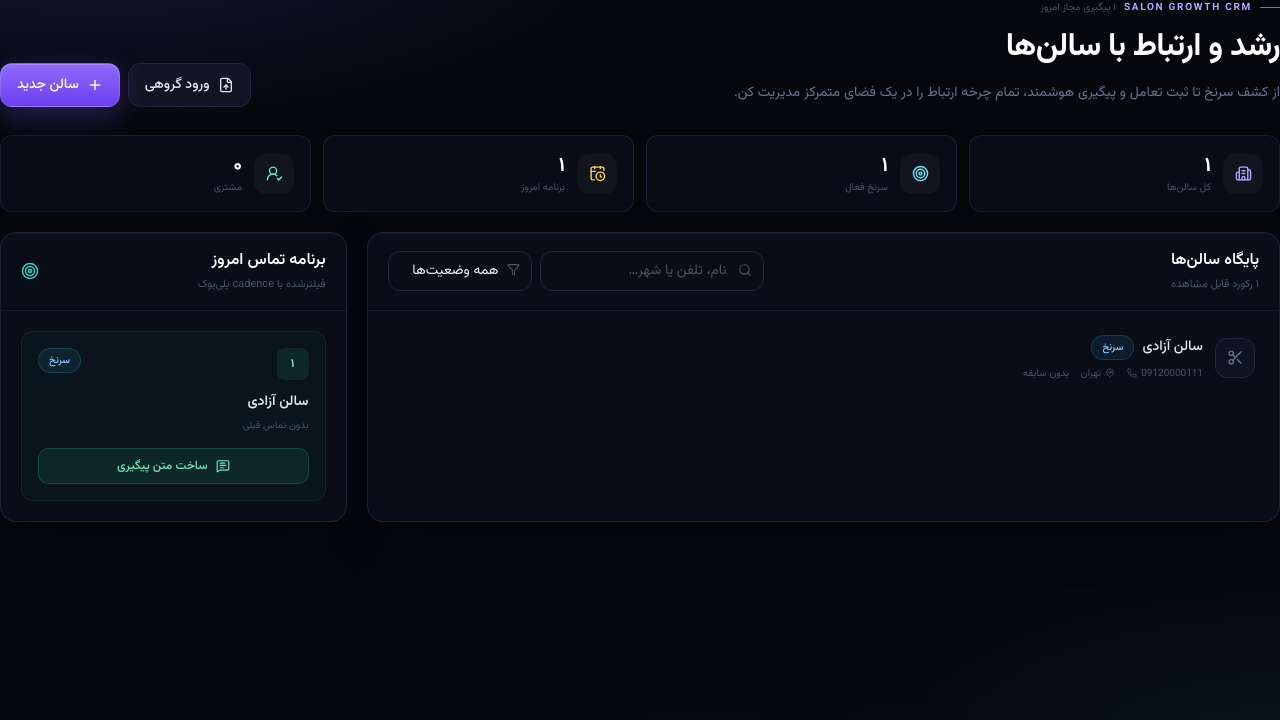
it: Salon outreach draft preview shows the text inline
Click the button "ساخت متن پیگیری" at (173,466), box [38,448,308,484]
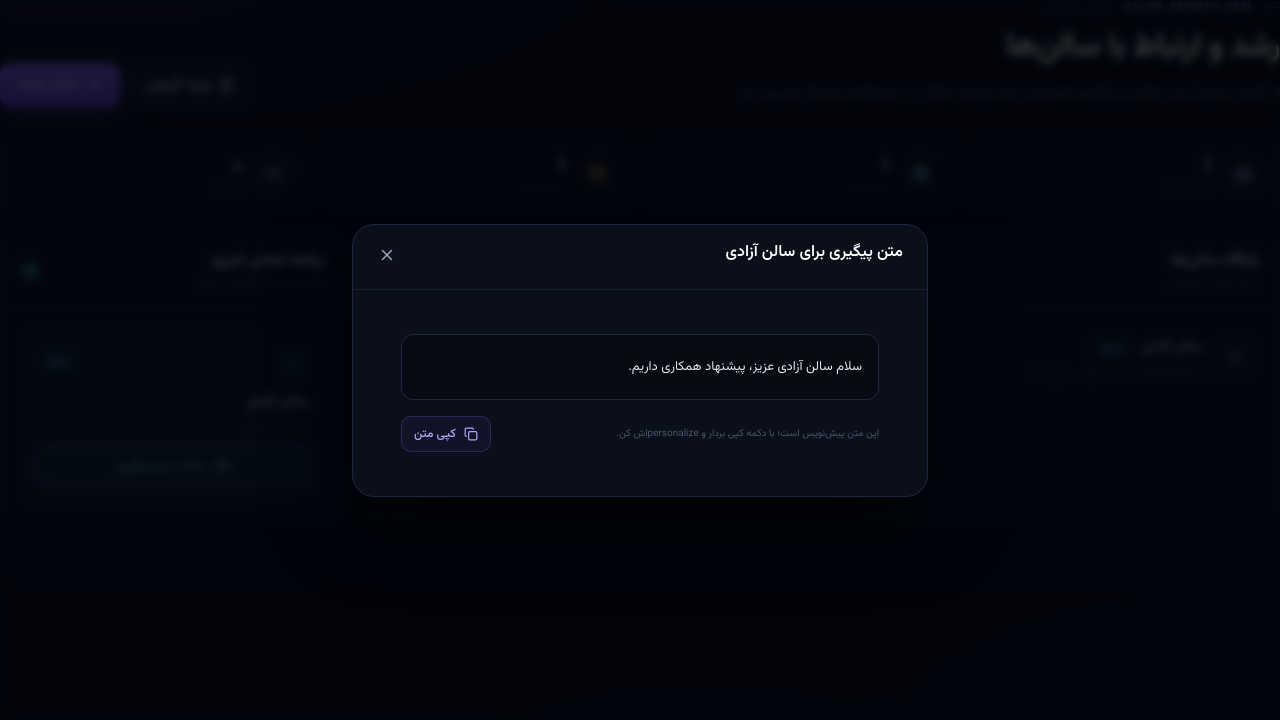
Expected: the text with test id "draft-preview-text" shows "سلام سالن آزادی عزیز", [628,356,862,376]
